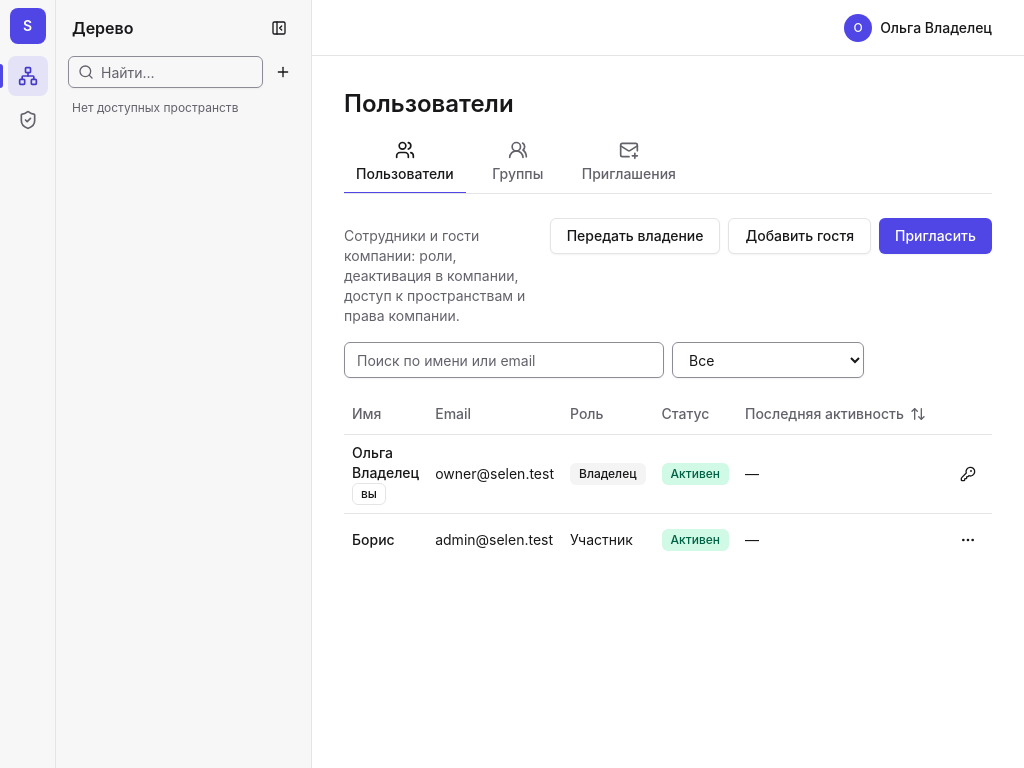
Test: Админка пользователей › деактивирует пользователя после подтверждения
The width and height of the screenshot is (1024, 768).
Click the button named "Действия с пользователем «Борис»": (968, 540) [950,522,986,558]
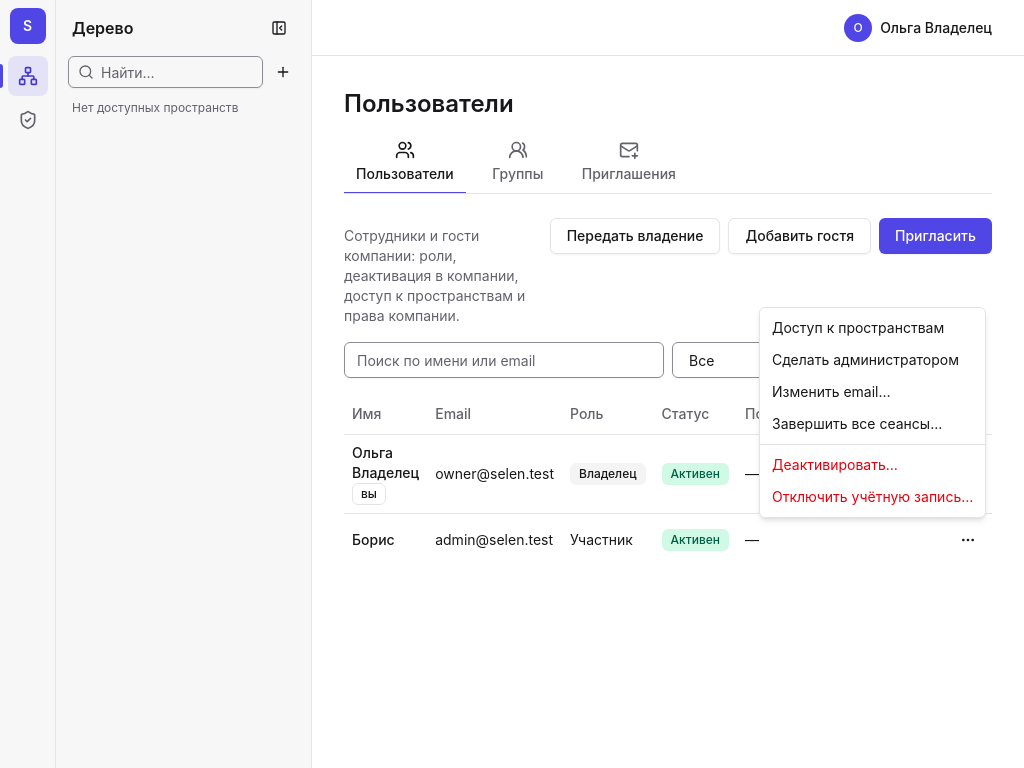
Click the menu item "Деактивировать…": (835, 464) [772,456,898,473]
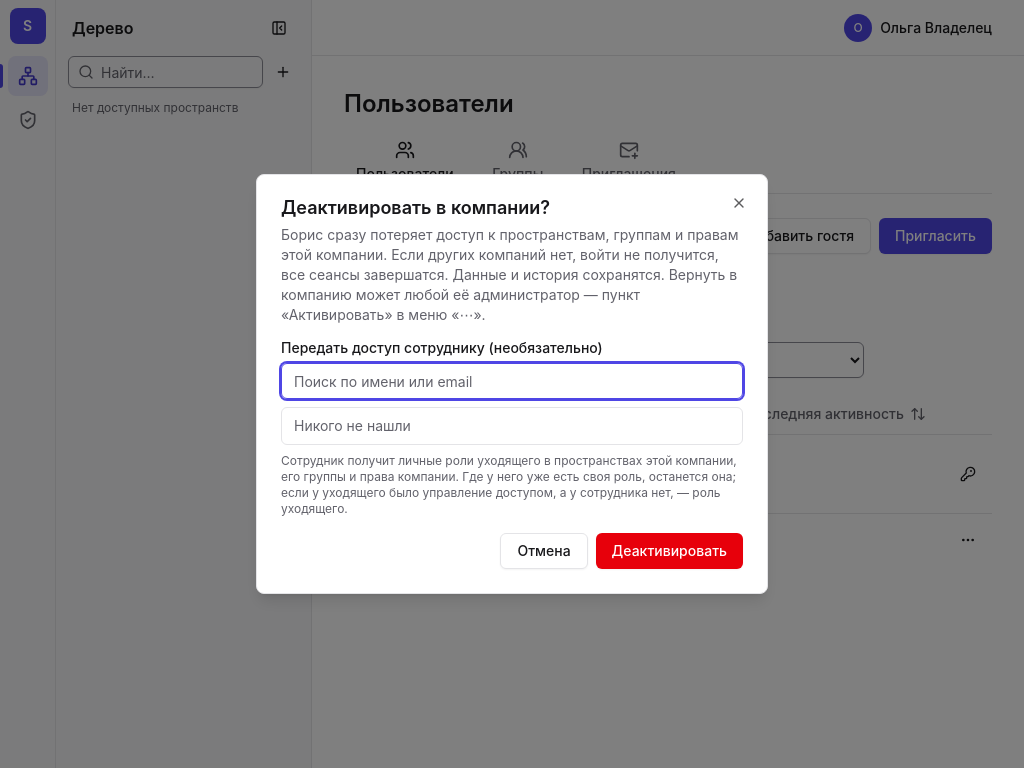
Click the button "Деактивировать": (669, 551) [596,533,743,569]
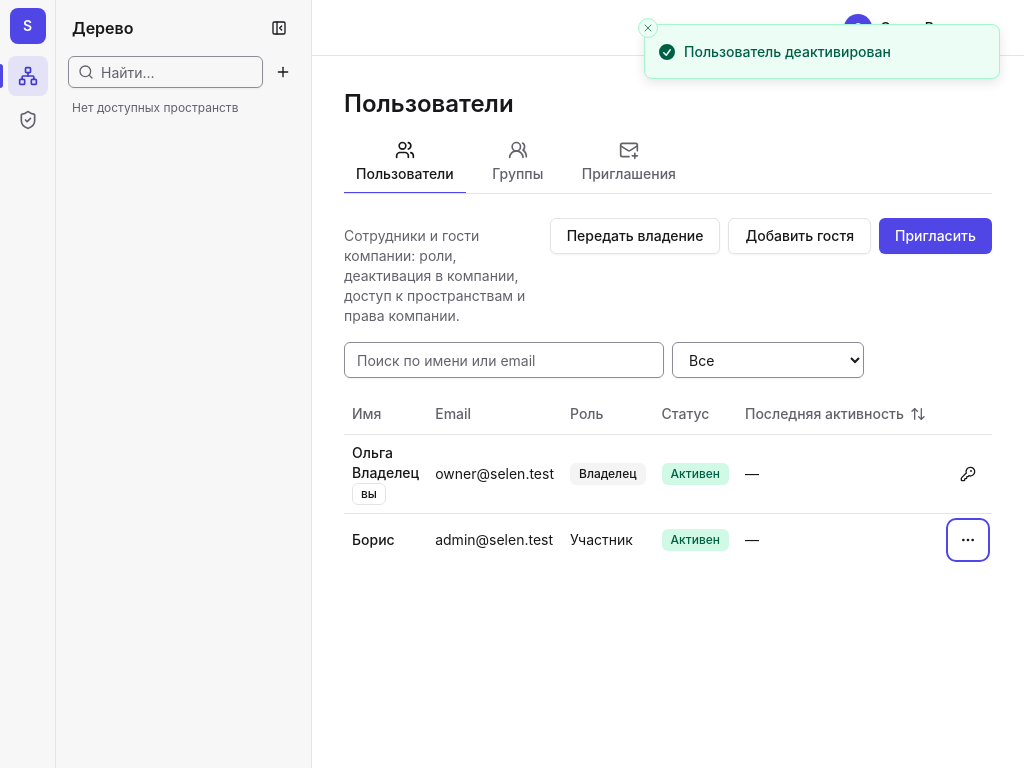
Check: the text "Пользователь деактивирован" is shown, box [684,41,891,62]
